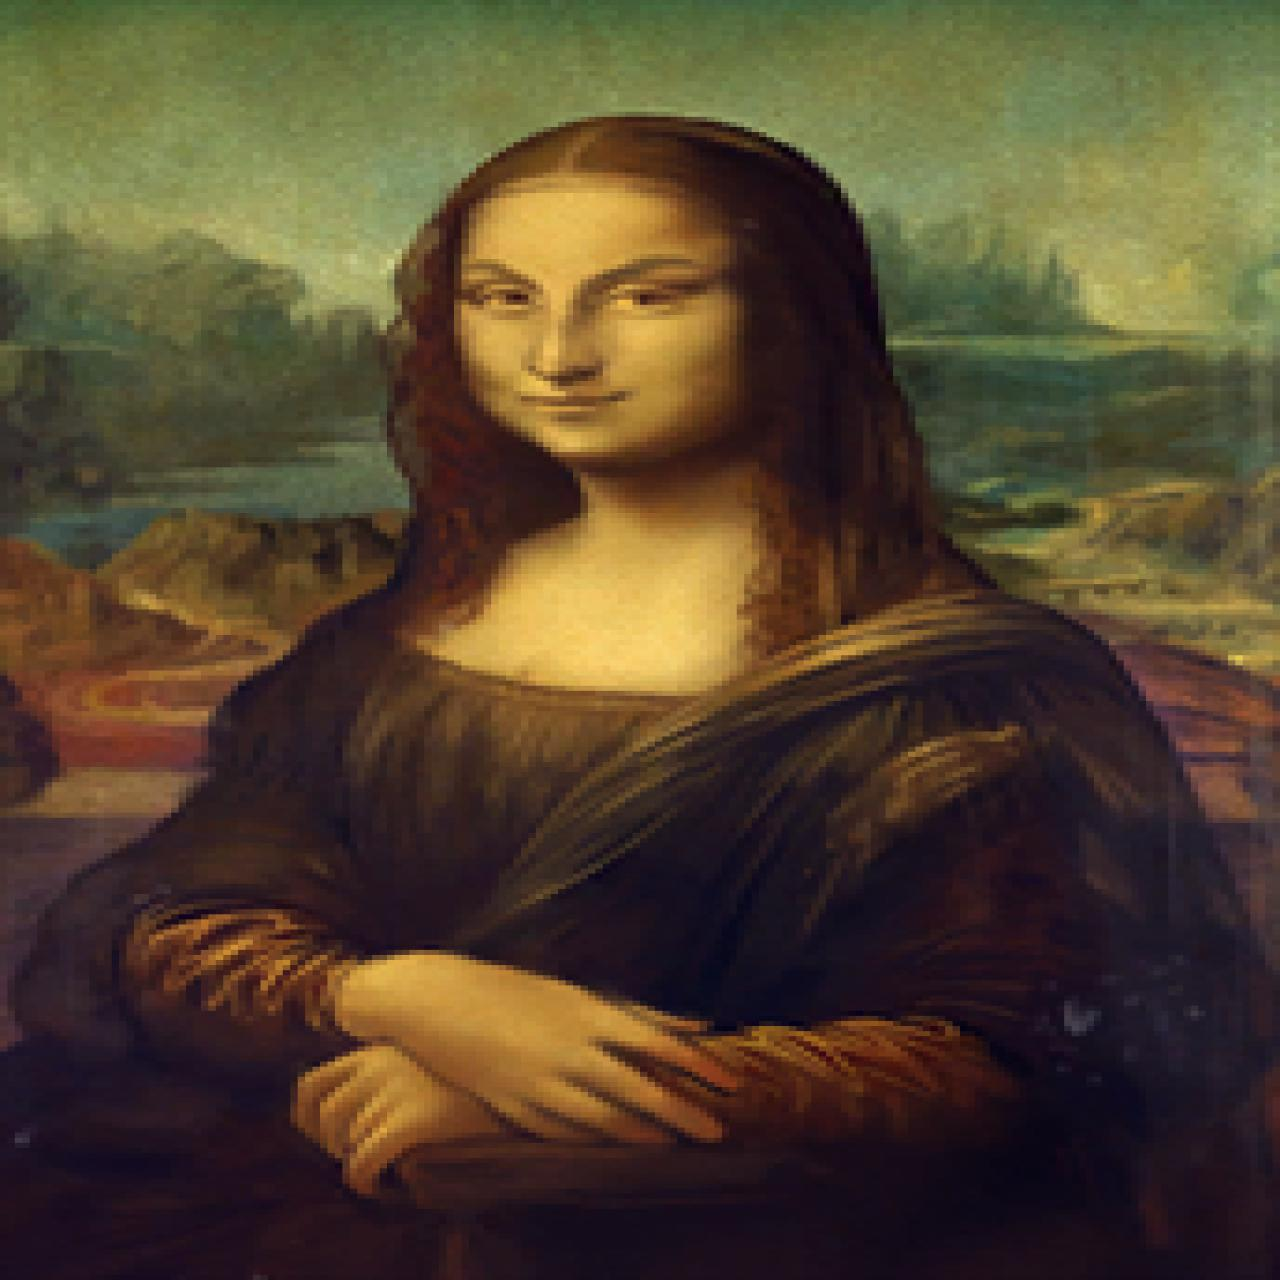MonaLisaFake: (1, 1, 1274, 1276)
